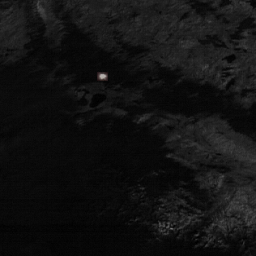Target: (97, 71, 108, 80)
